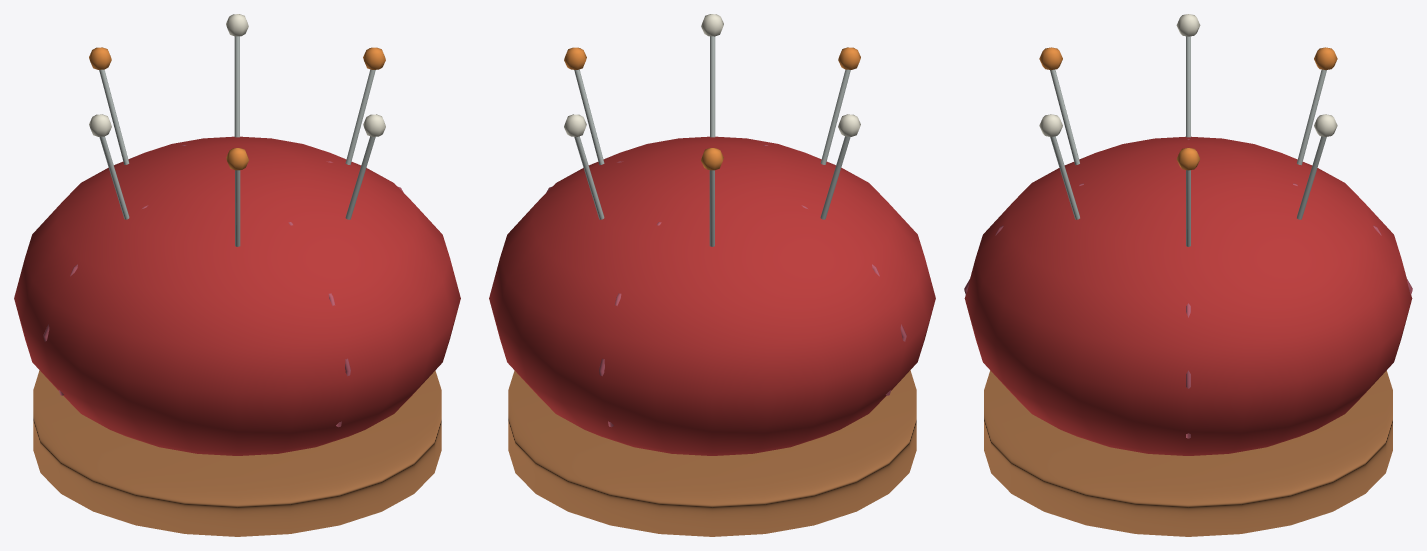
The model's file is P093_pin_cushion_rebuilt.glb.
The picture shows the model from 3 angles, left to right: view 1: azimuth 30°, elevation 25°; view 2: azimuth 150°, elevation 25°; view 3: azimuth 270°, elevation 25°; orthographic projection.
Visible parts, largest first — view 1: red, wood, silver, white, orange; view 2: red, wood, silver, white, orange; view 3: red, wood, silver, orange, white.
Part boxes in pixels (box(x1,y1,x2,y2)): red: box(14, 136, 460, 455); wood: box(33, 370, 441, 536); silver: box(99, 36, 375, 246); white: box(89, 14, 385, 136); orange: box(89, 47, 385, 170); red: box(489, 136, 935, 455); wood: box(508, 370, 916, 536); silver: box(574, 36, 850, 246); white: box(564, 14, 860, 136); orange: box(564, 47, 860, 170); red: box(964, 136, 1412, 455); wood: box(984, 370, 1392, 536); silver: box(1050, 36, 1326, 246); orange: box(1039, 47, 1337, 170); white: box(1039, 14, 1337, 136).
Size of the model in its own units: 0.11 by 0.1 by 0.11.
